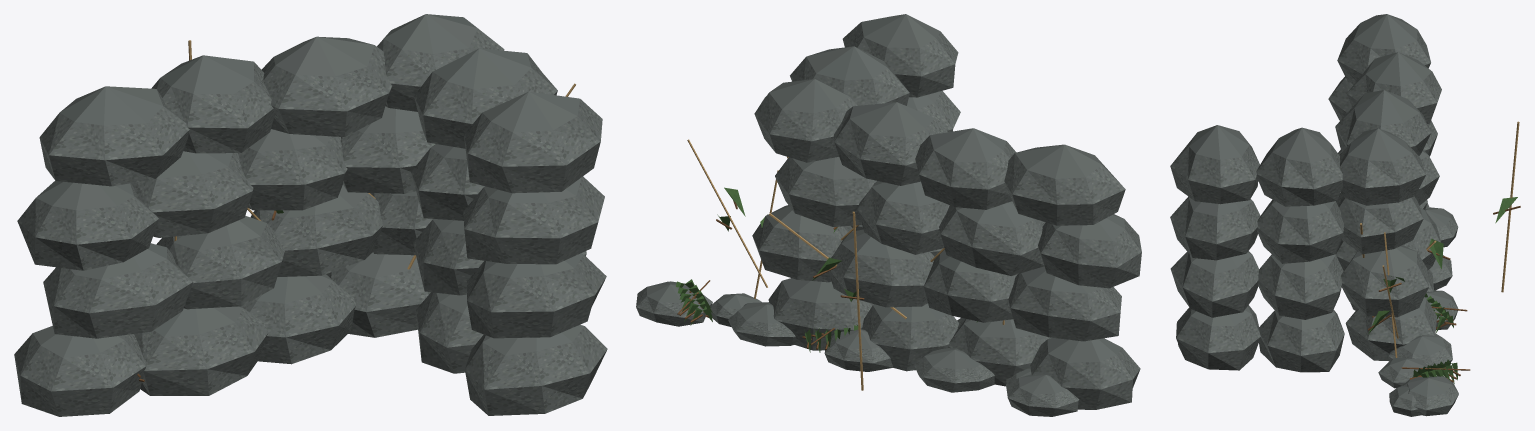
The model's file is en-012_rock_wall_module__corner.obj.
3 views of the same model, side by side, from view 1: azimuth 30°, elevation 25°; view 2: azimuth 150°, elevation 25°; view 3: azimuth 270°, elevation 25° (orthographic). The views are drawn at different scales.
Parts seen in each view (by area): view 1: en-012_rock_wall_module__corner; view 2: en-012_rock_wall_module__corner; view 3: en-012_rock_wall_module__corner.
Boxes of the visible parts, x1,y1,x2,y2 form: en-012_rock_wall_module__corner: [14, 14, 607, 416]; en-012_rock_wall_module__corner: [636, 14, 1141, 416]; en-012_rock_wall_module__corner: [1170, 14, 1520, 416].
Size of the model in its own units: 3.47 by 1.72 by 2.41.
Materials: 4 (4 with a texture image).
